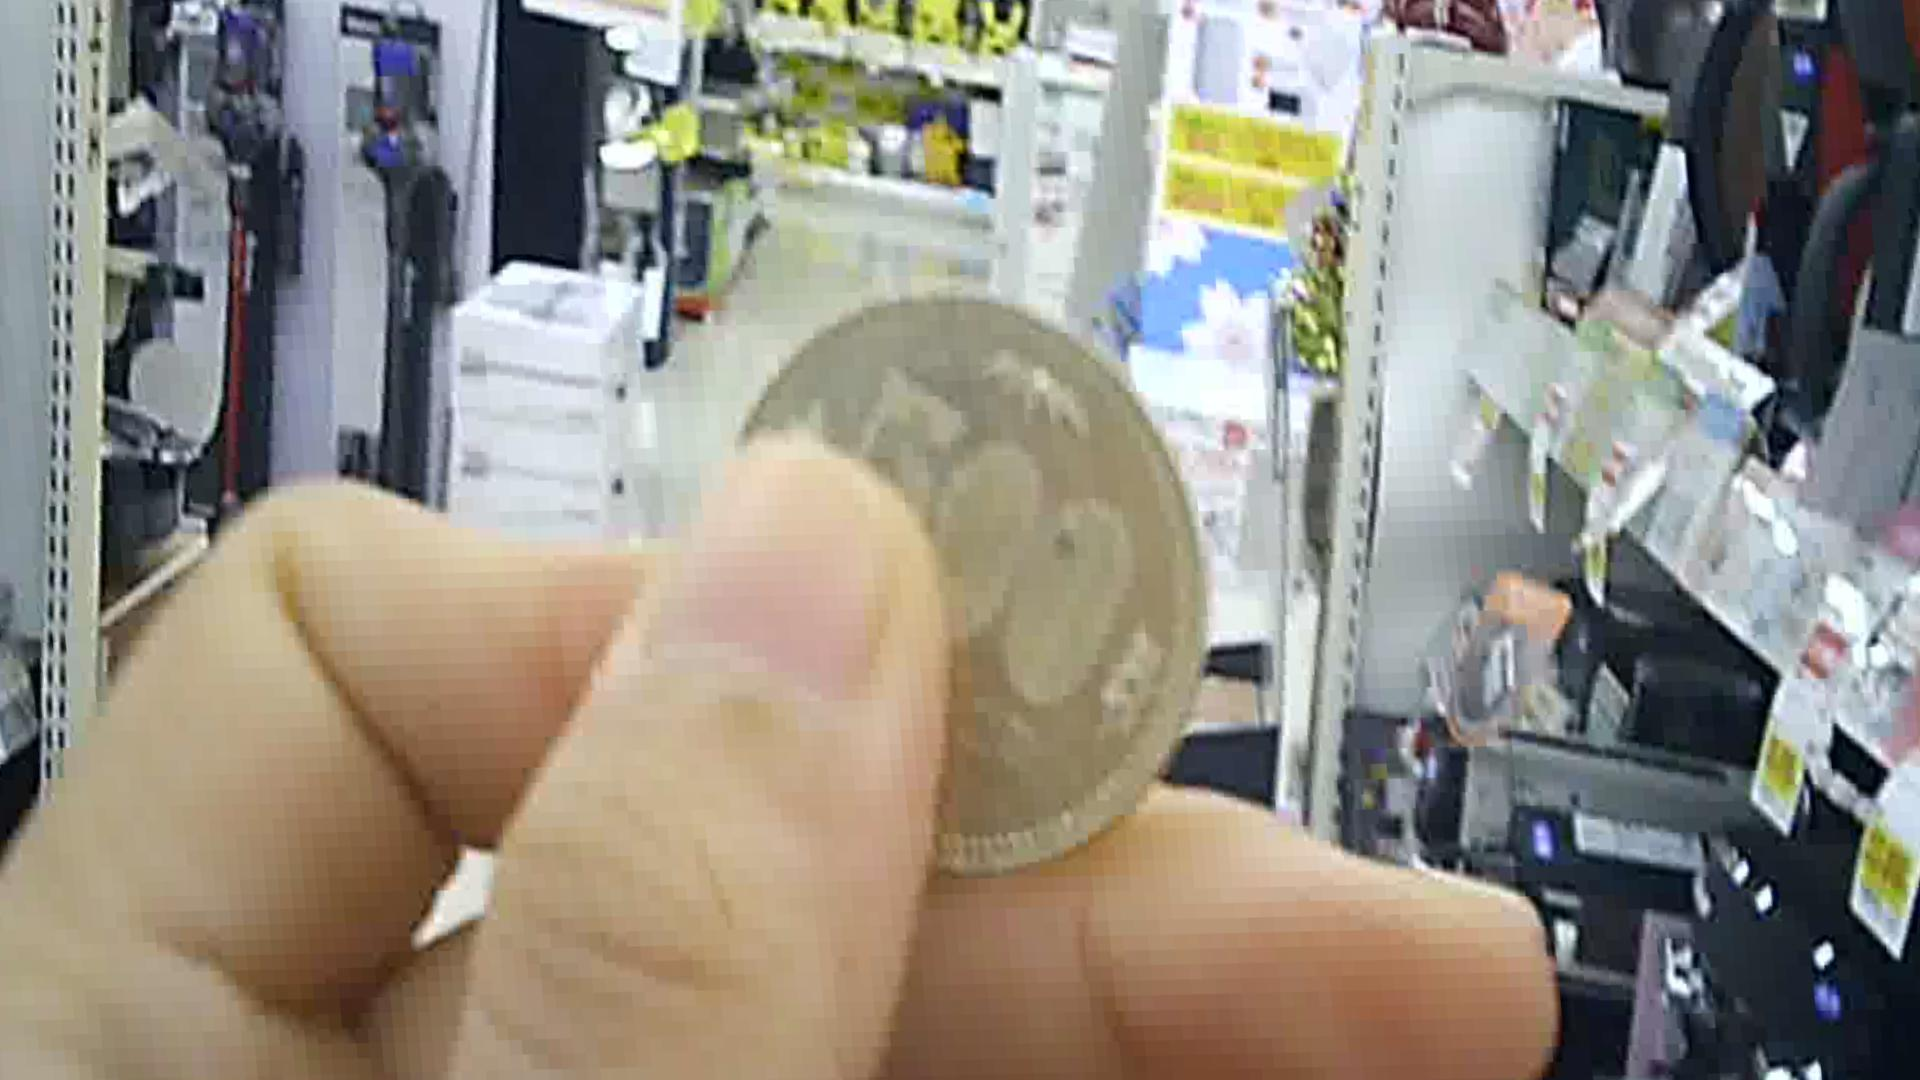500 Yen: (696, 284, 1212, 866)
